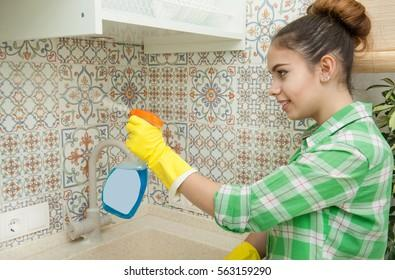gloves: (126, 115, 198, 198)
